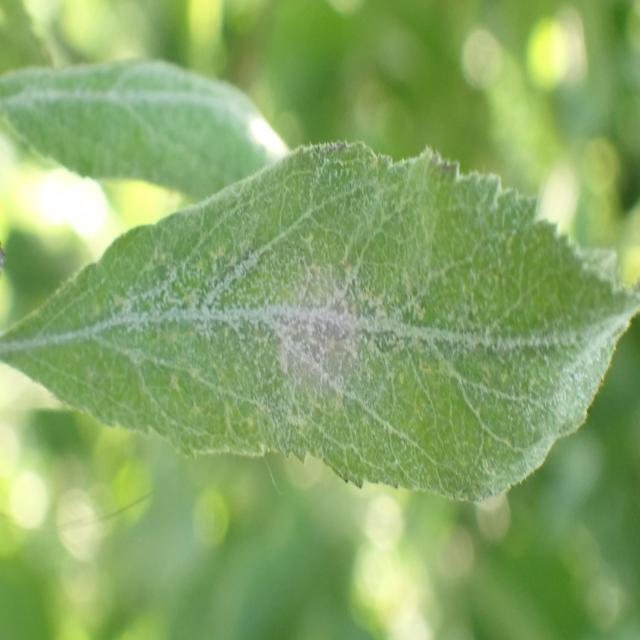Powdery_mildew: (48, 158, 630, 512), (19, 26, 278, 202)
